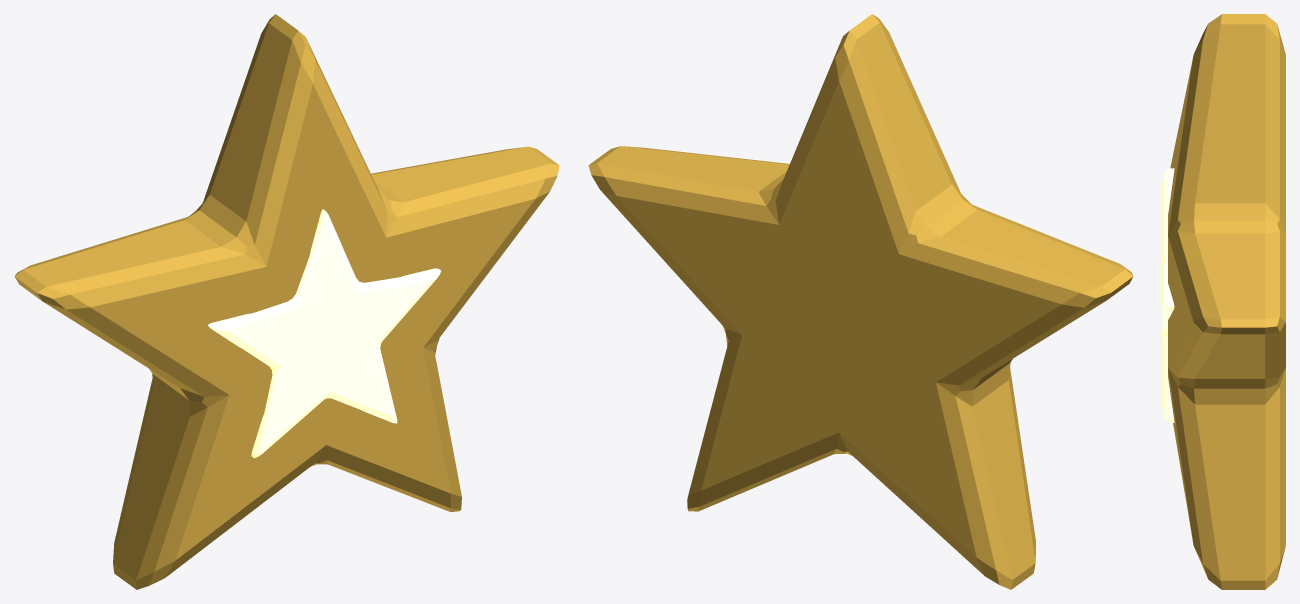
The model's file is estrela.glb.
3 renders of one model, left to right at view 1: azimuth 30°, elevation 25°; view 2: azimuth 150°, elevation 25°; view 3: azimuth 270°, elevation 25°, orthographic. The views are drawn at different scales.
Visible parts, largest first — view 1: estrela; view 2: estrela; view 3: estrela.
Boxes of the visible parts, x1=… form: estrela: x1=14, y1=14, x2=559, y2=589; estrela: x1=588, y1=14, x2=1133, y2=589; estrela: x1=1162, y1=14, x2=1285, y2=589.
Bounding box in the file's own units: 0.8439 × 0.8026 × 0.18.
